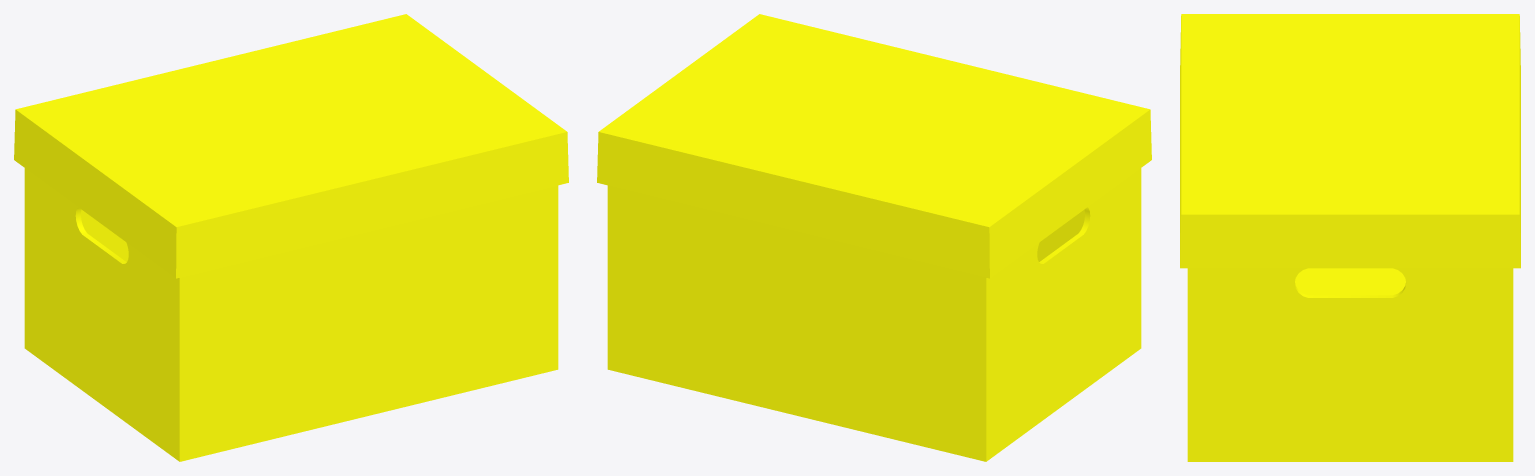
3 views of the same model, side by side, from view 1: azimuth 30°, elevation 25°; view 2: azimuth 150°, elevation 25°; view 3: azimuth 270°, elevation 25° (orthographic). The views are drawn at different scales.
Visible parts, largest first — view 1: SM_Box01; view 2: SM_Box01; view 3: SM_Box01.
Part boxes in pixels (<box>): SM_Box01: <box>14,14,568,461</box>; SM_Box01: <box>597,14,1151,461</box>; SM_Box01: <box>1180,14,1520,461</box>.
Size of what is drawn, in the model's own units: 0.6421 by 0.3723 by 0.4587.
Materials: 1 (1 with a texture image).
